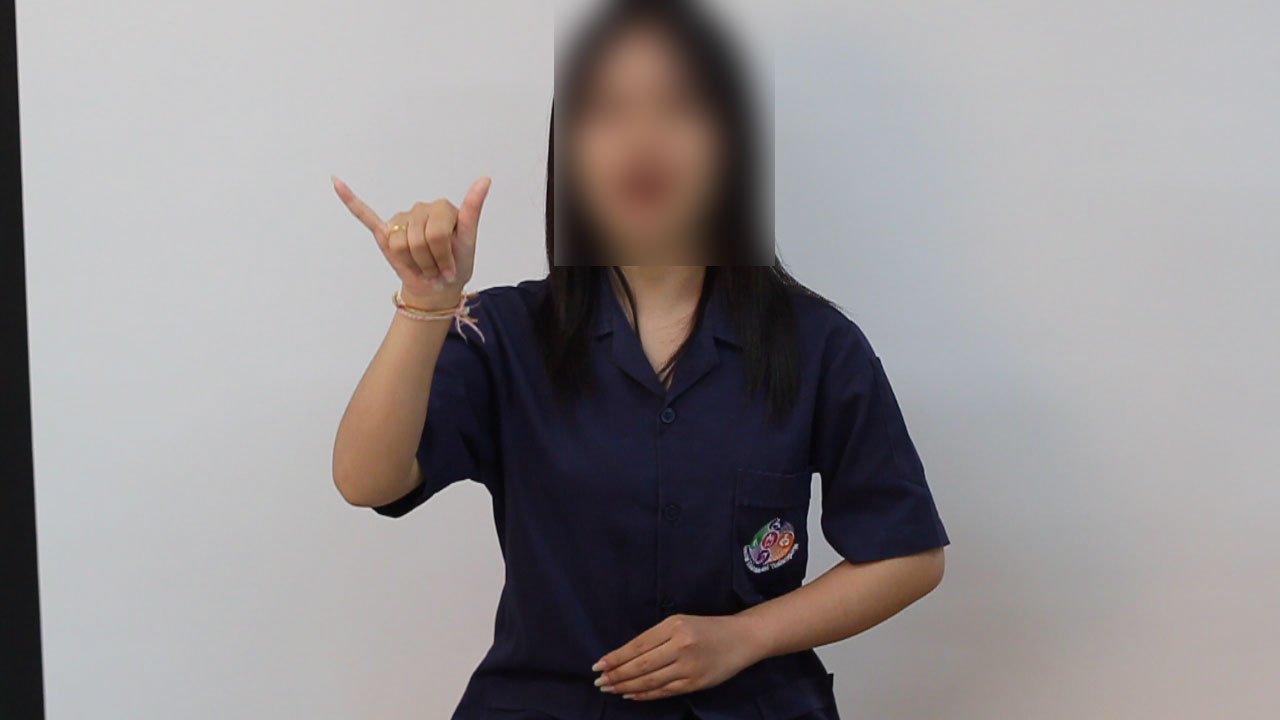yor: (321, 169, 516, 302)
